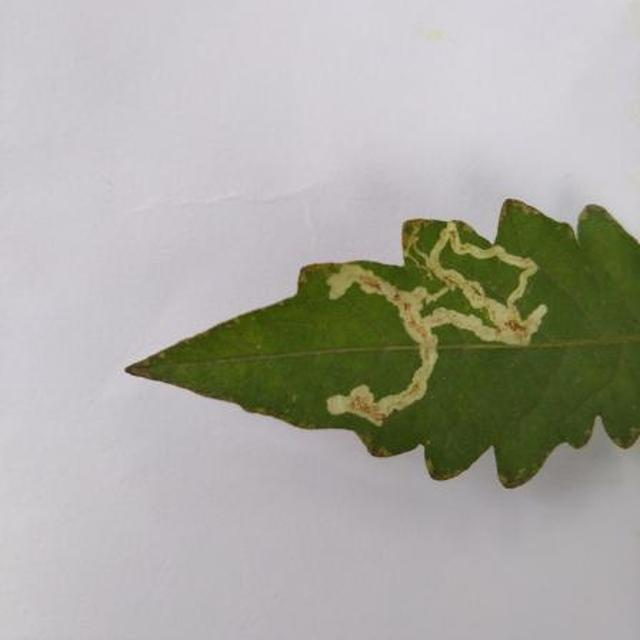Leaf Miner: (222, 276, 640, 640)
